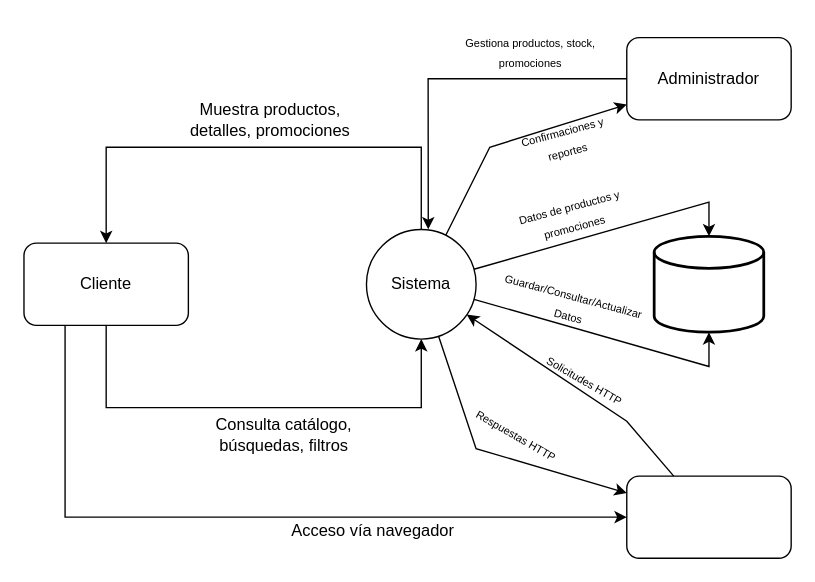
The diagram is 815 pixels wide and 582 high, and some of its shapes have lost their labels. The shapes that lost their labels are listed below. From the top down, each one's centre as x and y in pixels, then its label:
point (708, 283): Base de datos
point (708, 516): Navegador Web
